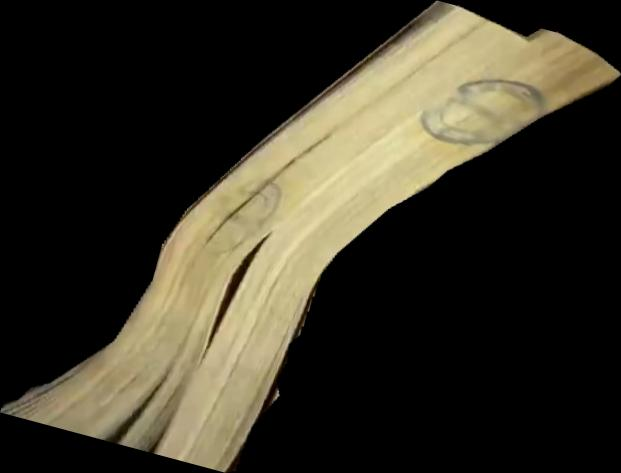backward: (1, 1, 621, 473)
